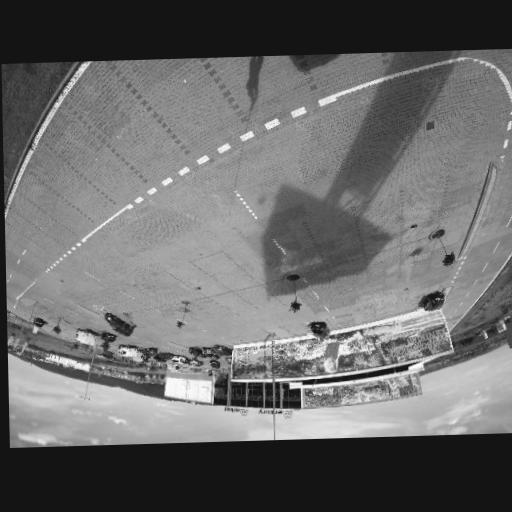busy: (98, 312, 135, 336), (417, 290, 447, 314), (71, 328, 101, 349), (307, 320, 332, 340), (116, 344, 139, 359), (30, 315, 49, 333), (211, 344, 234, 357), (186, 347, 208, 360), (142, 345, 160, 359), (200, 348, 218, 360), (101, 333, 117, 346)
free: (159, 83, 227, 132), (114, 111, 162, 164), (356, 205, 402, 242), (402, 189, 445, 224), (91, 155, 127, 189), (323, 223, 357, 255), (367, 251, 401, 280), (336, 259, 367, 287), (403, 239, 433, 265), (67, 180, 94, 205), (279, 242, 314, 261), (212, 265, 243, 285), (266, 281, 296, 301), (308, 269, 332, 294), (245, 256, 274, 275), (53, 203, 80, 222), (156, 282, 182, 300), (183, 275, 212, 291), (248, 290, 271, 305), (392, 297, 417, 310), (227, 297, 248, 311), (42, 218, 61, 233), (29, 229, 48, 243), (370, 305, 390, 318), (148, 308, 165, 321), (204, 302, 224, 313), (186, 306, 201, 320), (354, 310, 370, 323), (288, 322, 306, 332), (333, 316, 351, 326), (270, 328, 287, 338), (128, 300, 139, 307)
